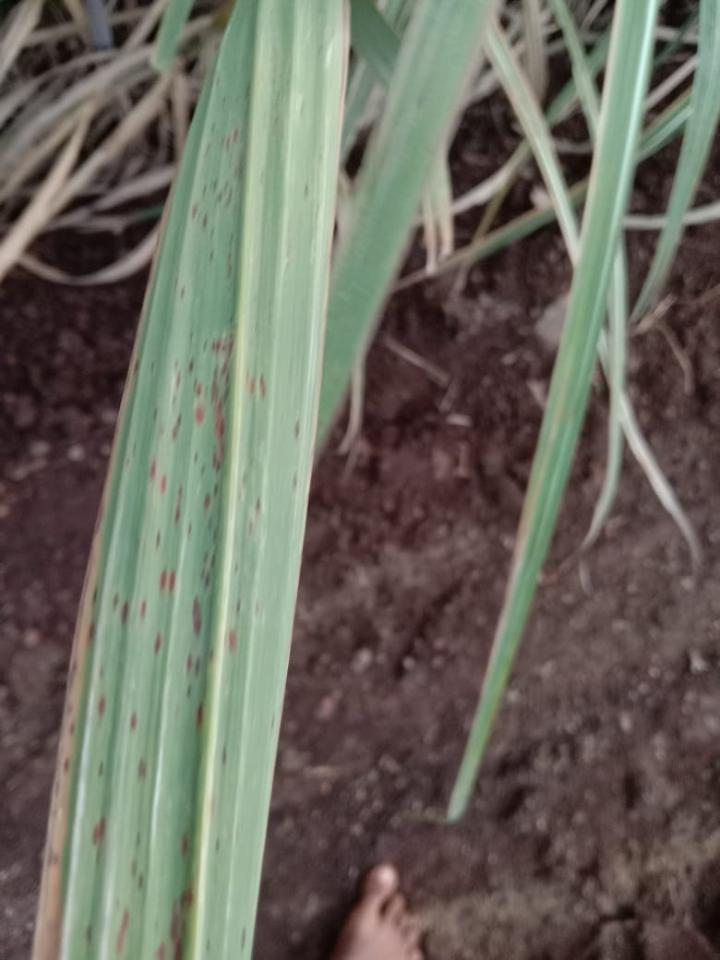Rust: (42, 322, 273, 959), (184, 89, 255, 283), (243, 493, 266, 539), (291, 415, 305, 447), (290, 465, 300, 493)
